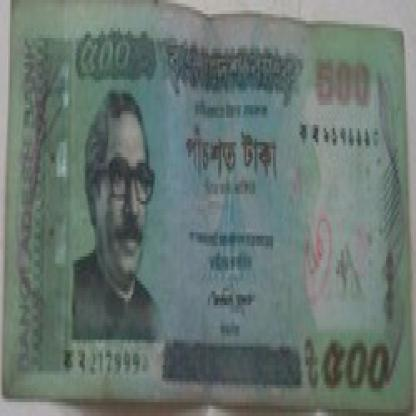500 taka: (183, 104, 286, 198), (68, 24, 150, 87)
currency: (0, 4, 411, 412)
